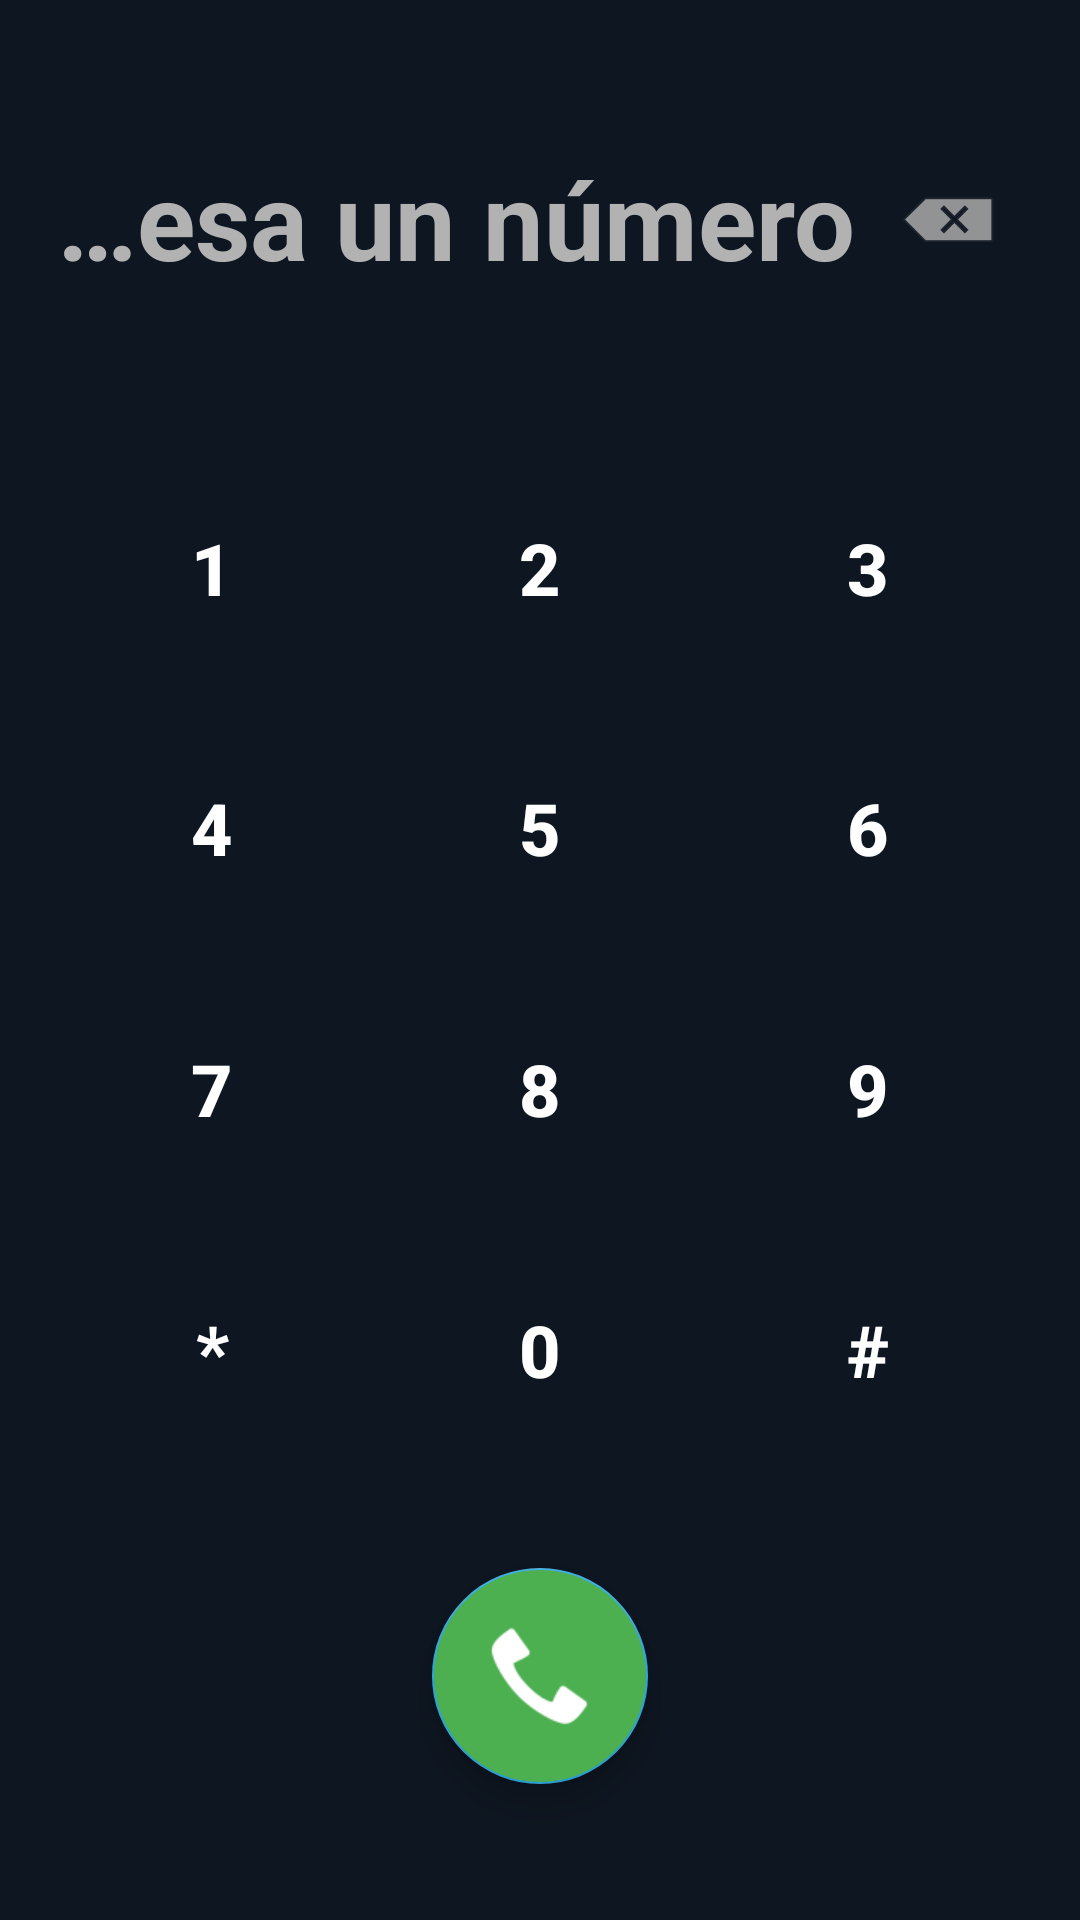

Screen size 1080px×1920px. Icon name, then its box in pixels as (x1, y1, x2, y2):
Delete key: (905, 199, 992, 241)
Llamar por VoIP: (432, 1568, 648, 1784)
